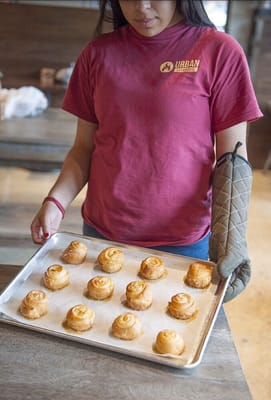salad: (110, 312, 144, 341), (62, 304, 95, 333), (123, 280, 153, 311), (166, 292, 199, 320), (183, 262, 216, 289), (42, 264, 71, 291), (85, 275, 115, 300), (97, 247, 125, 273), (61, 240, 88, 265), (138, 256, 166, 280)
